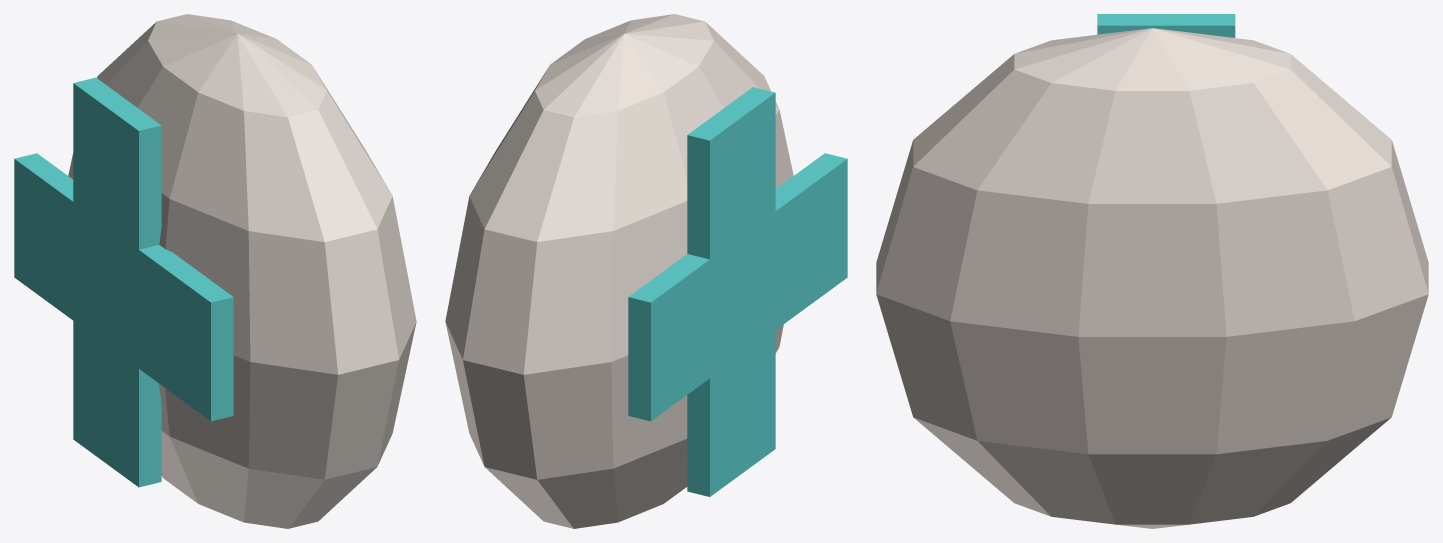
The model's file is powerup.gltf.
3 renders of one model, left to right at view 1: azimuth 30°, elevation 25°; view 2: azimuth 150°, elevation 25°; view 3: azimuth 270°, elevation 25°, orthographic. The views are drawn at different scales.
Visible parts, largest first — view 1: sphere, mesh; view 2: sphere, mesh; view 3: sphere, mesh.
Part boxes in pixels (box(x1,y1,x2,y2)): sphere: box(68, 14, 416, 528); mesh: box(14, 77, 233, 487); sphere: box(445, 14, 793, 528); mesh: box(628, 87, 847, 496); sphere: box(876, 28, 1428, 528); mesh: box(1097, 14, 1235, 37).
Bounding box in the file's own units: 1.05 × 2 × 2.
2 materials, 2 textured.
